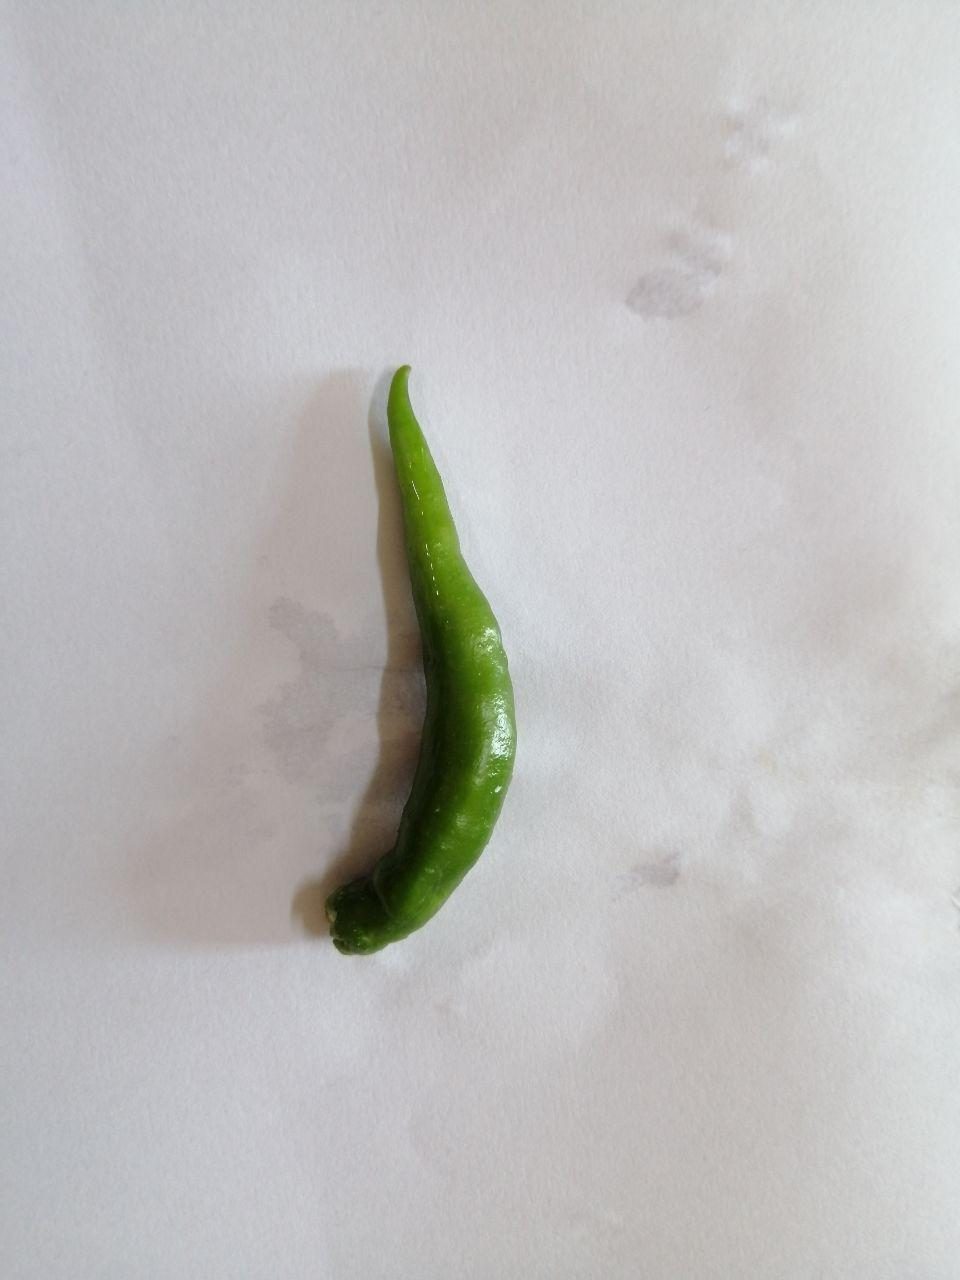lada hijau: (308, 349, 531, 980)
